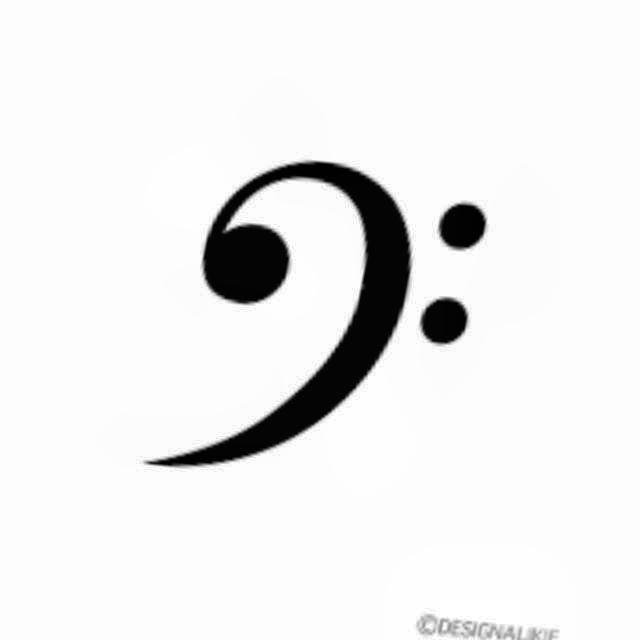Bass-clef: (126, 144, 494, 486)
